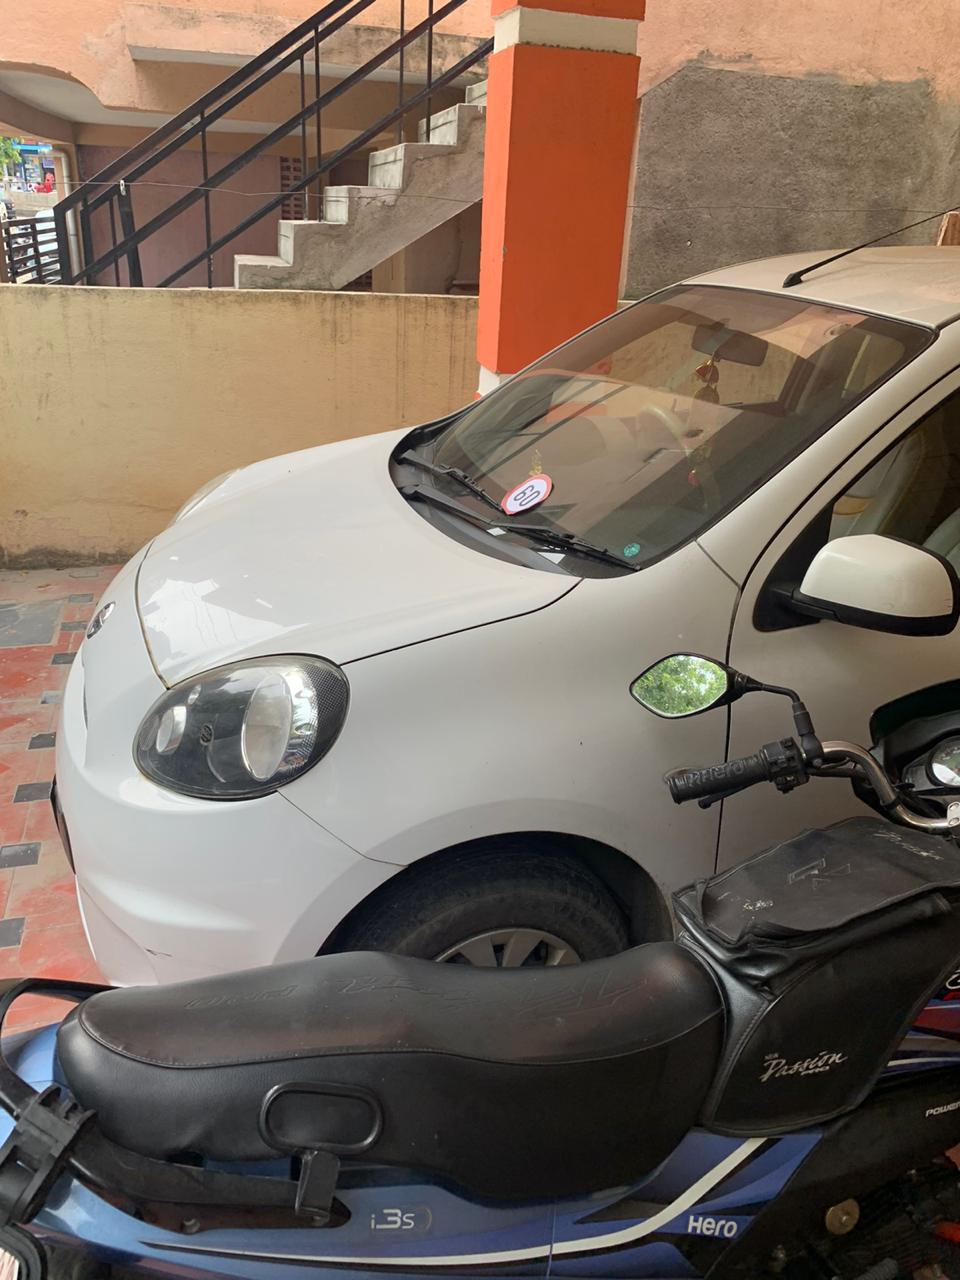SPEED LIMIT (60 KM/H): (497, 472, 559, 521)
